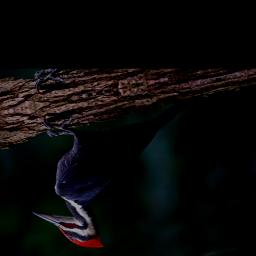Woodpecker: (12, 79, 248, 256)
